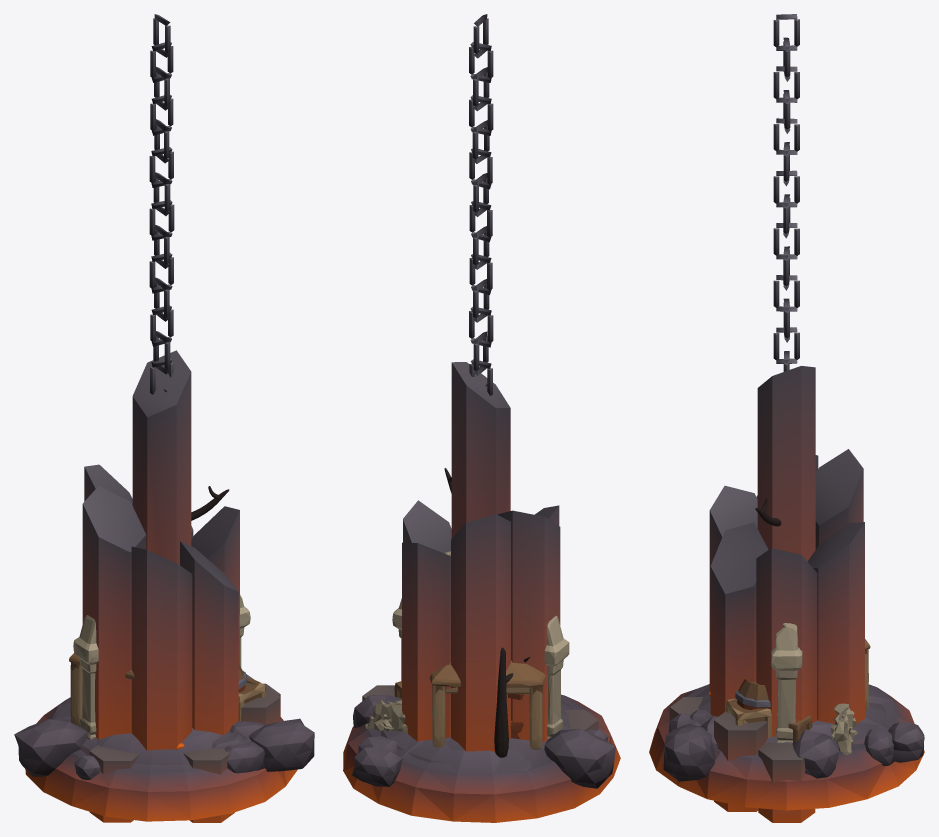
Rendered from volcano-s7-COlgKUPO.glb.
3 views of the same model, side by side, from view 1: azimuth 30°, elevation 25°; view 2: azimuth 150°, elevation 25°; view 3: azimuth 270°, elevation 25° (orthographic).
Visible parts, largest first — view 1: sc_stack_0, sc_z1_3, sc_chain_0, sc_z0_3, sc_floe_0, sc_z0_0, sc_z2_3; view 2: sc_stack_0, sc_z1_3, sc_chain_0, sc_z0_3, sc_z0_0, sc_floe_0; view 3: sc_stack_0, sc_z1_3, sc_chain_0, sc_z0_3, sc_floe_0, sc_z0_0, sc_z2_3.
Part boxes in pixels (left/top/right/bottom): sc_stack_0: left=82, top=350, right=239, bottom=750; sc_z1_3: left=14, top=594, right=297, bottom=821; sc_chain_0: left=149, top=14, right=174, bottom=394; sc_z0_3: left=53, top=653, right=314, bottom=786; sc_floe_0: left=89, top=683, right=280, bottom=822; sc_z0_0: left=65, top=486, right=251, bottom=779; sc_z2_3: left=212, top=663, right=265, bottom=748; sc_stack_0: left=402, top=362, right=560, bottom=751; sc_z1_3: left=343, top=551, right=620, bottom=822; sc_chain_0: left=469, top=14, right=493, bottom=395; sc_z0_3: left=352, top=660, right=545, bottom=786; sc_z0_0: left=380, top=468, right=608, bottom=763; sc_floe_0: left=362, top=685, right=598, bottom=731; sc_stack_0: left=709, top=366, right=864, bottom=736; sc_z1_3: left=649, top=623, right=924, bottom=810; sc_chain_0: left=773, top=14, right=799, bottom=371; sc_z0_3: left=663, top=639, right=924, bottom=786; sc_floe_0: left=669, top=697, right=815, bottom=822; sc_z0_0: left=694, top=498, right=887, bottom=744; sc_z2_3: left=690, top=678, right=770, bottom=751.
Size of the model in its own units: 12.72 by 36.13 by 11.97.
